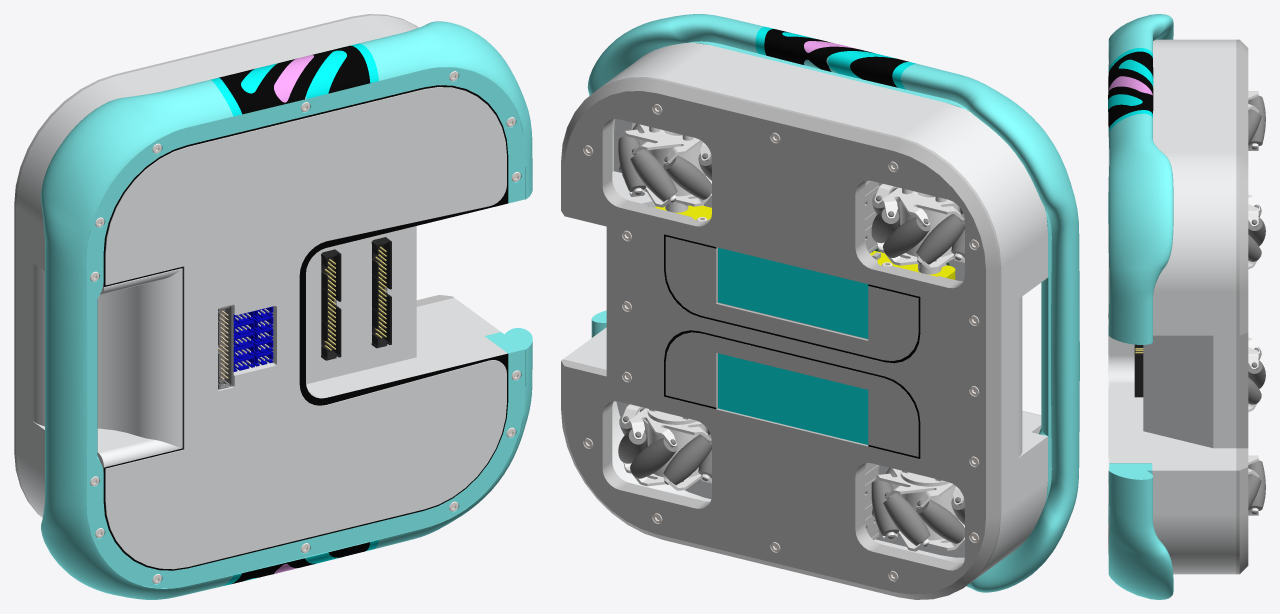
The model's file is rover.glb.
3 renders of one model, left to right at view 1: azimuth 30°, elevation 25°; view 2: azimuth 150°, elevation 25°; view 3: azimuth 270°, elevation 25°, orthographic. The views are drawn at different scales.
Parts seen in each view (by area): view 1: Meera_SKbot_001_V1_P6_B-1, Meera_SKbot_001_V1_P4_B-1, MSKMUX1_v2-1, Conector RIBBON 40 Pines-1, Conector RIBBON 40 Pines-2, Meera_SKbot_001_V1_P7_B-1; view 2: Meera_SKbot_001_V1_P7_B-1, Meera_SKbot_001_V1_P6_B-1, Meera_SKbot_001_V1_P4_B-1, mecanumWheelHRVL-1 (×2), mecanumWheelHLVR-1 (×2), 18650 Holder 3 cells-2, 18650 Holder 3 cells-1; view 3: Meera_SKbot_001_V1_P6_B-1, Meera_SKbot_001_V1_P4_B-1, Meera_SKbot_001_V1_P7_B-1, mecanumWheelHLVR-1 (×2), mecanumWheelHRVL-1 (×2), Conector RIBBON 40 Pines-2.
Part boxes in pixels (box(x1,y1,x2,y2)): Meera_SKbot_001_V1_P6_B-1: box(16, 15, 508, 570); Meera_SKbot_001_V1_P4_B-1: box(41, 21, 532, 599); MSKMUX1_v2-1: box(218, 305, 273, 389); Conector RIBBON 40 Pines-1: box(321, 249, 341, 360); Conector RIBBON 40 Pines-2: box(371, 237, 391, 348); Meera_SKbot_001_V1_P7_B-1: box(14, 14, 453, 515); Meera_SKbot_001_V1_P7_B-1: box(561, 77, 1001, 599); Meera_SKbot_001_V1_P6_B-1: box(563, 42, 1047, 584); Meera_SKbot_001_V1_P4_B-1: box(587, 14, 1079, 592); mecanumWheelHRVL-1 (×2): box(618, 184, 964, 490); mecanumWheelHLVR-1 (×2): box(618, 123, 964, 551); 18650 Holder 3 cells-2: box(865, 463, 879, 539); 18650 Holder 3 cells-1: box(865, 180, 879, 253); Meera_SKbot_001_V1_P6_B-1: box(1108, 39, 1236, 574); Meera_SKbot_001_V1_P4_B-1: box(1108, 14, 1173, 599); Meera_SKbot_001_V1_P7_B-1: box(1236, 39, 1248, 574); mecanumWheelHLVR-1 (×2): box(1248, 194, 1265, 411); mecanumWheelHRVL-1 (×2): box(1248, 91, 1265, 515); Conector RIBBON 40 Pines-2: box(1134, 344, 1143, 397).
Bounding box in the file's own units: 0.2852 × 0.2853 × 0.0902.
